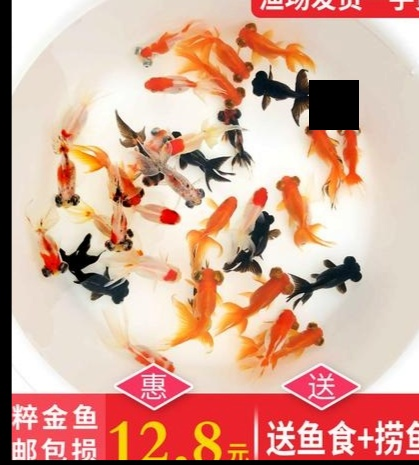fry: (183, 258, 225, 350), (255, 303, 306, 354), (312, 249, 366, 296), (280, 318, 326, 368), (231, 18, 285, 60), (201, 193, 241, 248), (123, 31, 175, 73), (297, 109, 337, 162), (247, 268, 296, 311), (86, 267, 135, 309), (248, 67, 293, 112), (35, 114, 83, 155), (272, 168, 309, 221), (129, 137, 166, 190), (102, 170, 145, 212), (210, 106, 249, 151), (97, 218, 138, 260), (335, 114, 366, 167), (28, 241, 70, 280), (205, 75, 249, 111), (131, 348, 182, 379), (142, 251, 184, 288), (242, 210, 275, 256), (48, 172, 83, 214), (144, 203, 186, 234), (139, 72, 190, 96), (176, 148, 215, 179), (172, 184, 211, 213), (222, 51, 255, 83), (242, 179, 268, 215), (158, 135, 193, 158)
